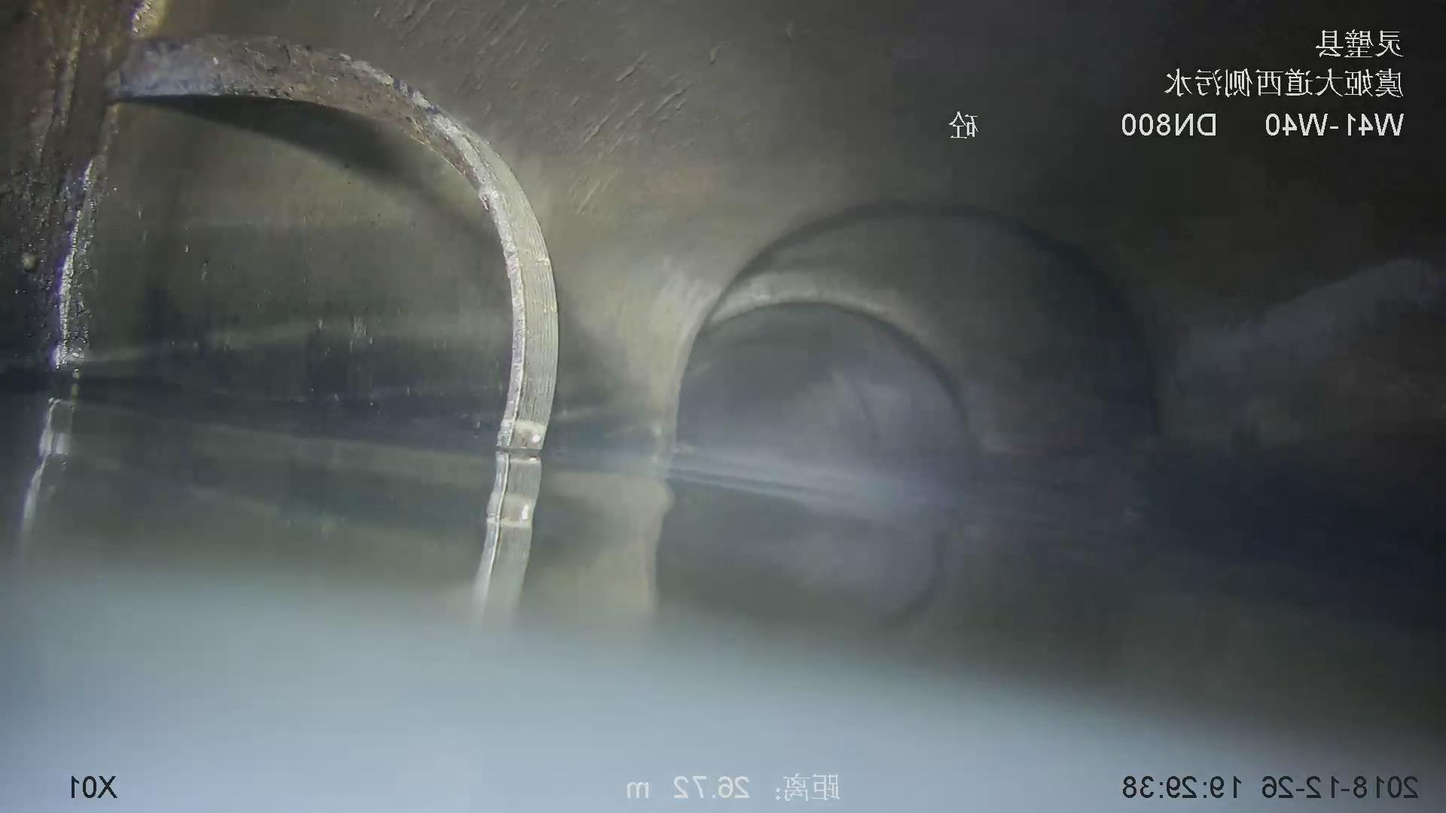JKCL: (105, 37, 557, 586)
